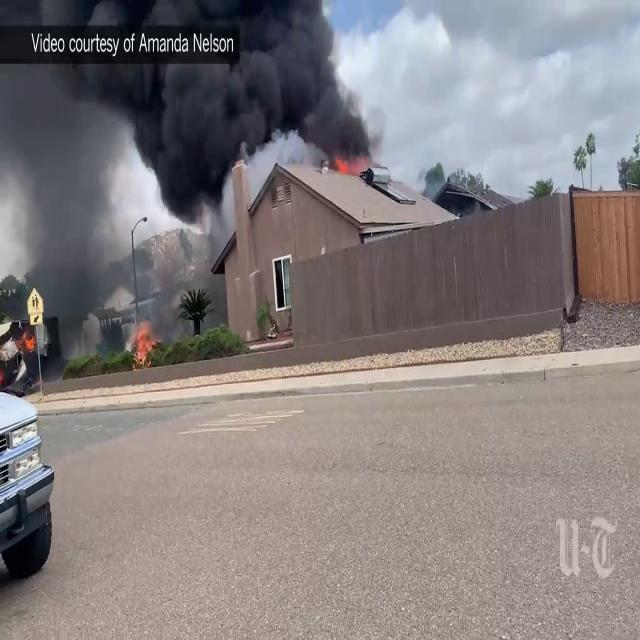Fire: (130, 318, 160, 363)
Smoke: (0, 0, 371, 222)
